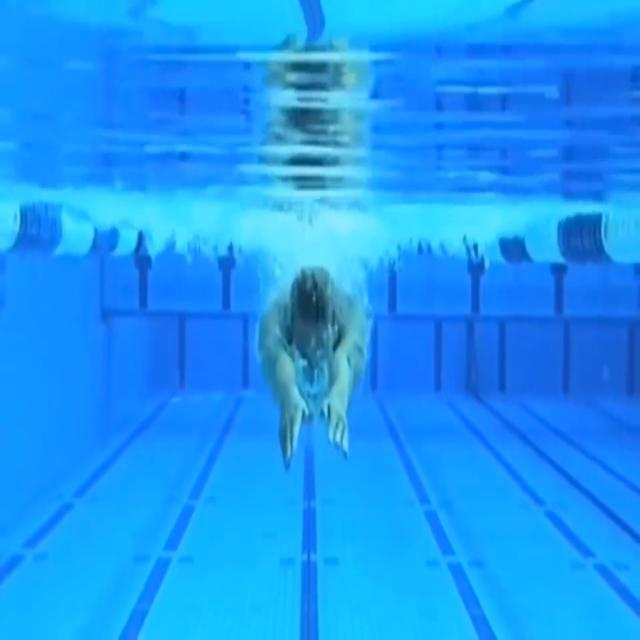Swimming: (255, 264, 374, 468)
